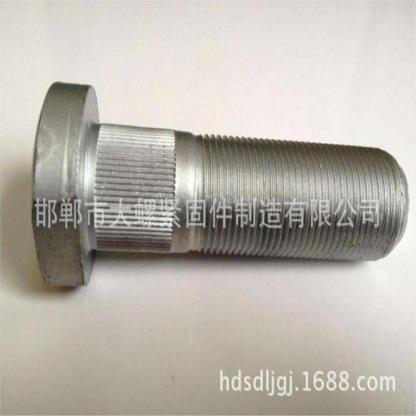FOD: (27, 79, 410, 295)
